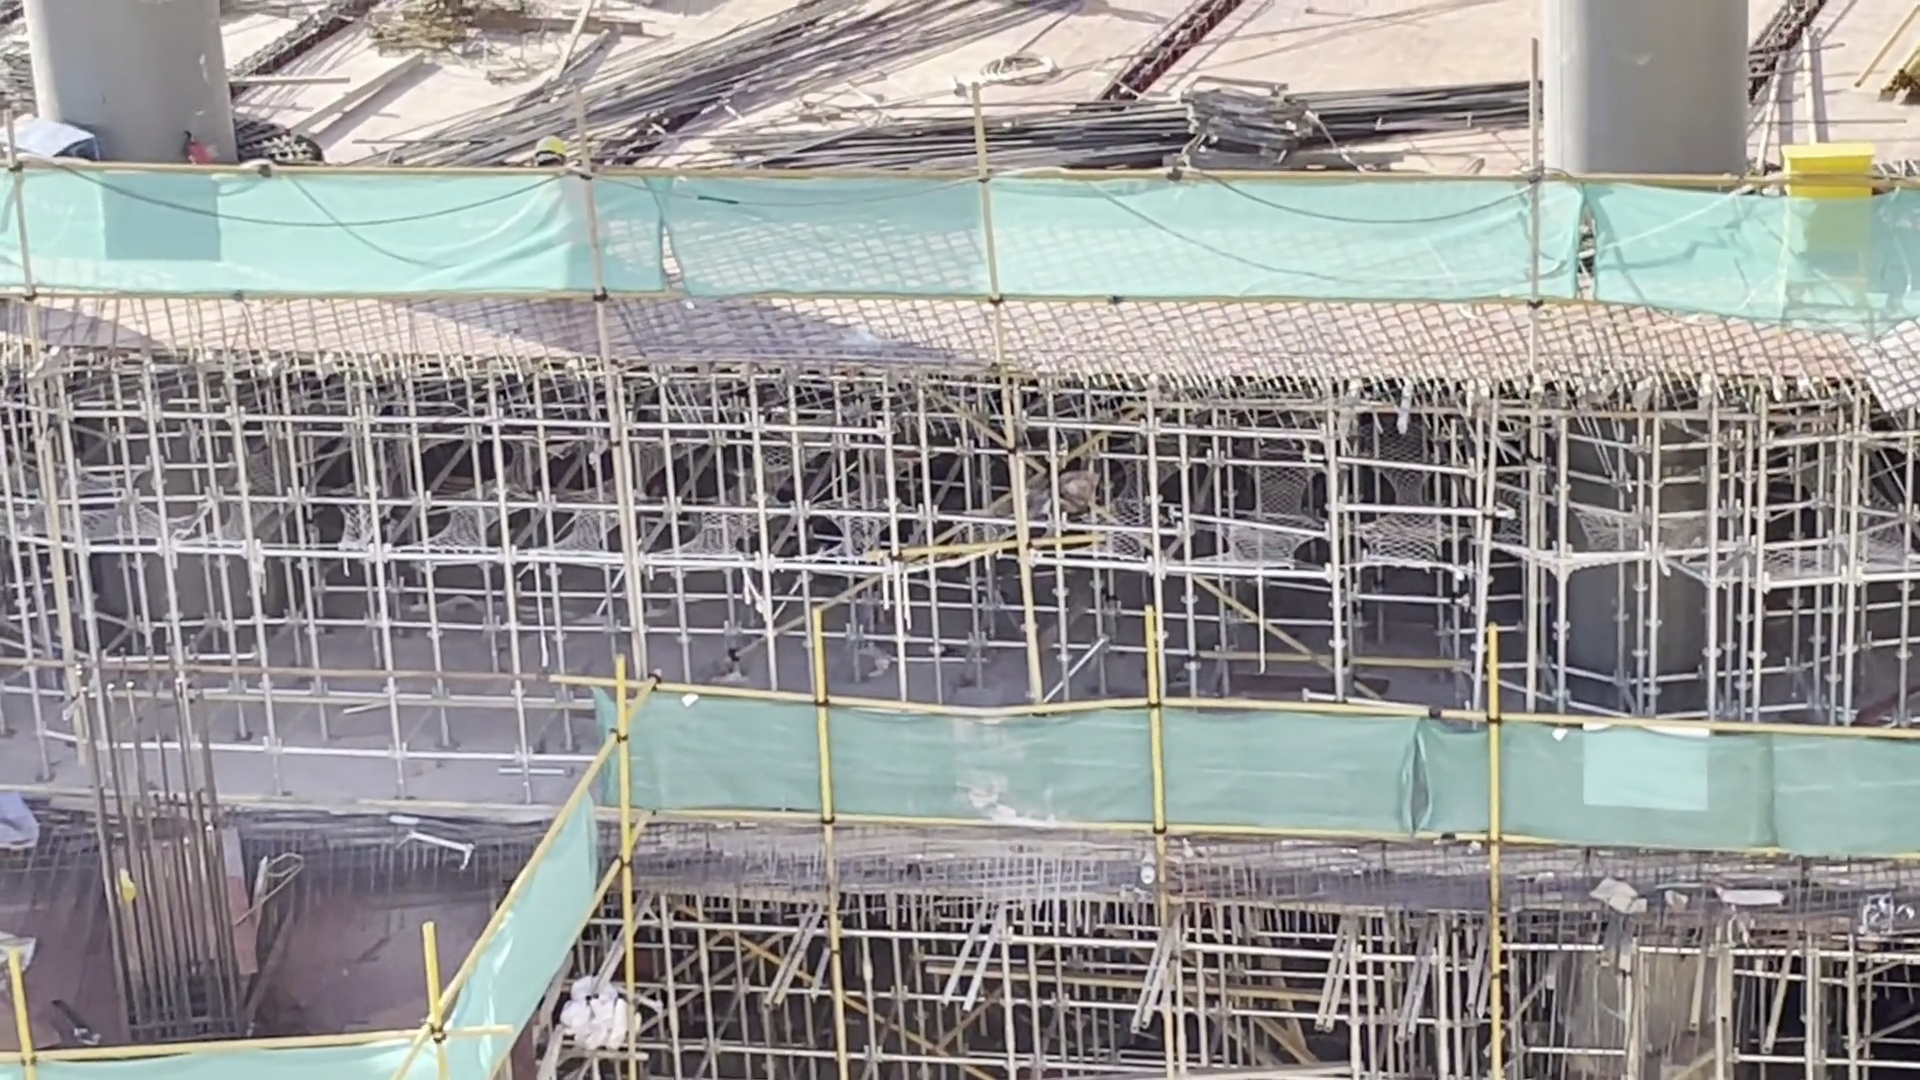ebox: (1764, 128, 1895, 316)
